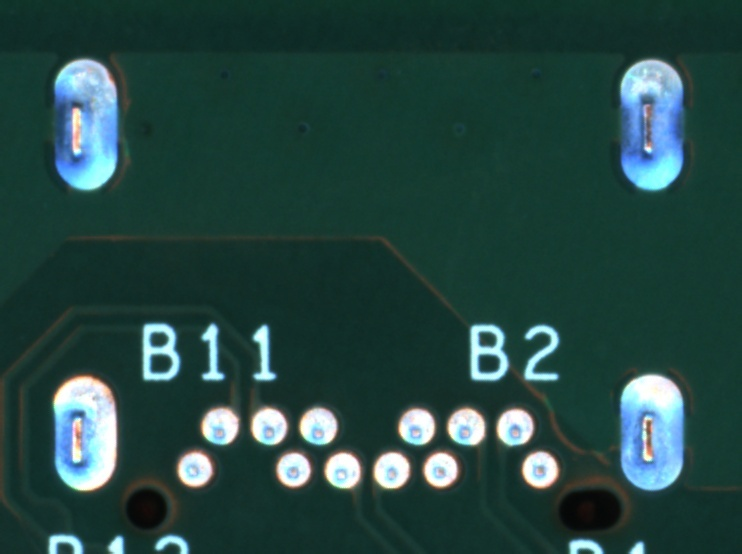SOLDER: (490, 396, 541, 449), (243, 399, 294, 451), (291, 399, 342, 451), (390, 398, 441, 450), (515, 444, 566, 496), (169, 446, 220, 498), (318, 447, 368, 500), (195, 398, 245, 451), (368, 445, 418, 498), (442, 397, 492, 449), (416, 444, 466, 496), (269, 445, 319, 497)
SOLDER2: (604, 44, 696, 206), (40, 352, 131, 514), (39, 47, 130, 208), (607, 352, 698, 513)
